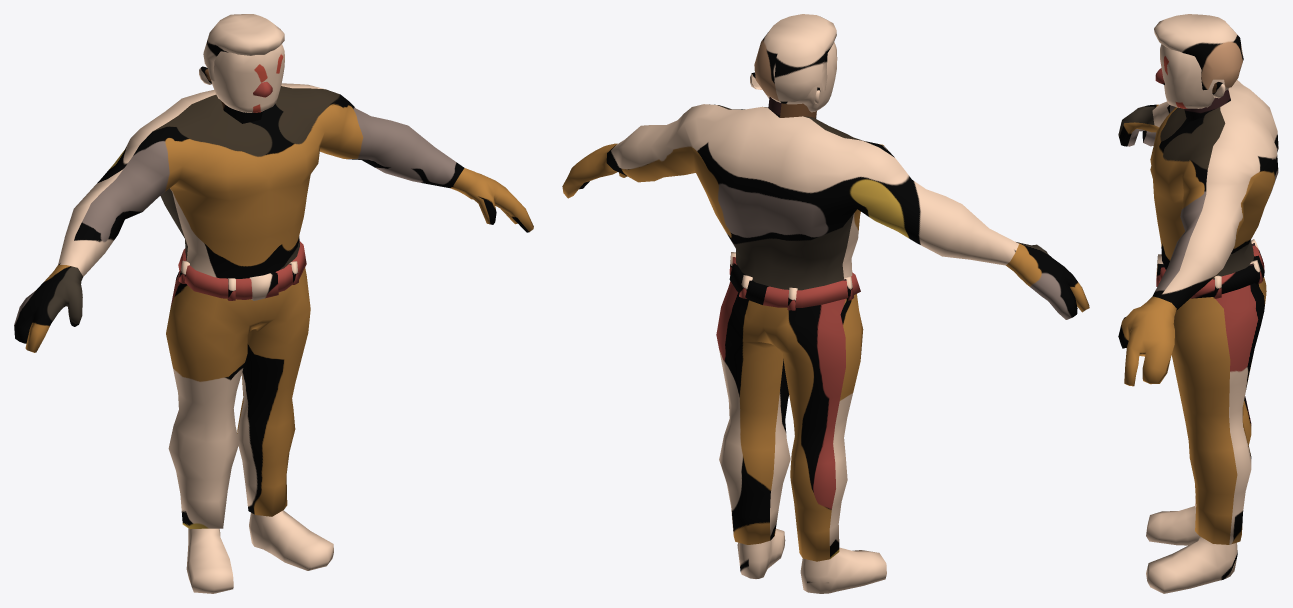
Rendered from BossYakuza.FBX.
3 renders of one model, left to right at view 1: azimuth 30°, elevation 25°; view 2: azimuth 150°, elevation 25°; view 3: azimuth 270°, elevation 25°, orthographic.
Parts seen in each view (by area): view 1: Cuerpo; view 2: Cuerpo; view 3: Cuerpo.
Boxes of the visible parts, x1,y1,x2,y2 form: Cuerpo: [14, 14, 533, 593]; Cuerpo: [562, 14, 1089, 593]; Cuerpo: [1118, 14, 1278, 593].
Size of the model in its own units: 2.79 by 2.84 by 0.7674.
